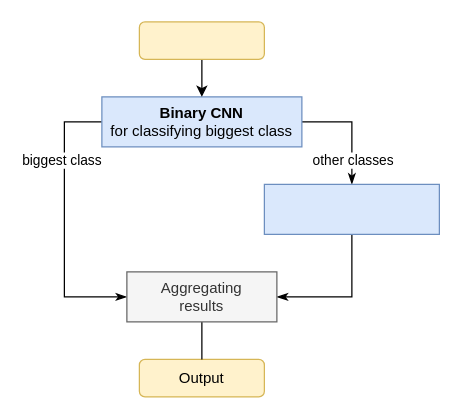
Some shapes in this 461 by 419 pixel diagram are drawn without their labels. Each missing label, with the centre of its shape:
"Input" goes at (x=201, y=40).
"Multiclass CNN for other classes" goes at (x=351, y=208).
